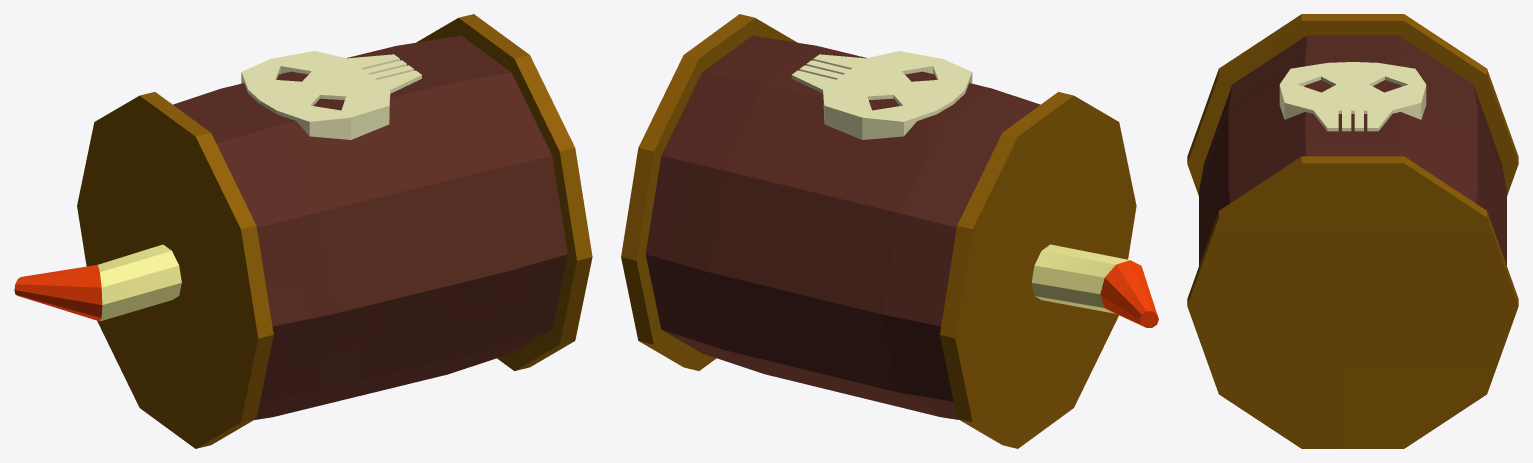
File: Bomb.fbx
3 renders of one model, left to right at view 1: azimuth 30°, elevation 25°; view 2: azimuth 150°, elevation 25°; view 3: azimuth 270°, elevation 25°, orthographic. The views are drawn at different scales.
Visible parts, largest first — view 1: Bomb; view 2: Bomb; view 3: Bomb.
Boxes of the visible parts, x1,y1,x2,y2 form: Bomb: [14, 14, 592, 448]; Bomb: [621, 14, 1158, 448]; Bomb: [1187, 14, 1518, 448].
Size of the model in its own units: 631 by 403 by 424.
